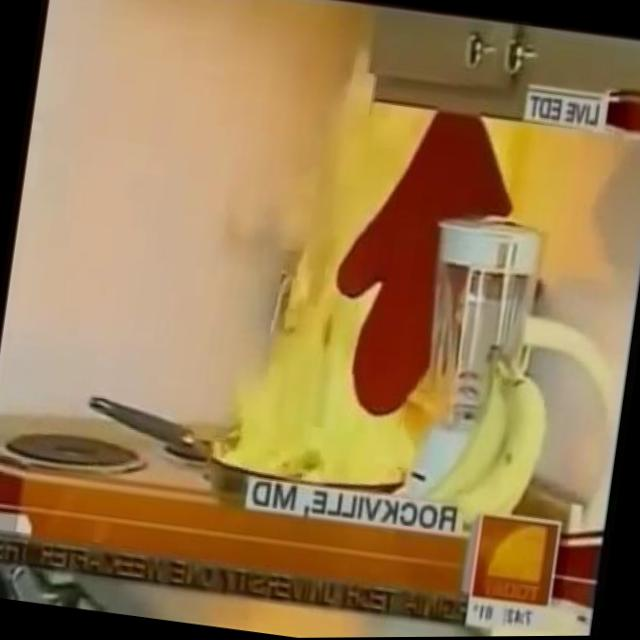fire: (213, 86, 463, 497)
